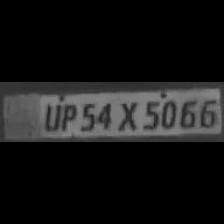0: (158, 97, 176, 128)
4: (94, 99, 114, 130)
5: (140, 97, 158, 130), (77, 100, 95, 132)
6: (176, 96, 196, 128), (198, 96, 216, 128)
P: (55, 100, 76, 132)
U: (39, 100, 61, 132)
X: (114, 98, 140, 132)
